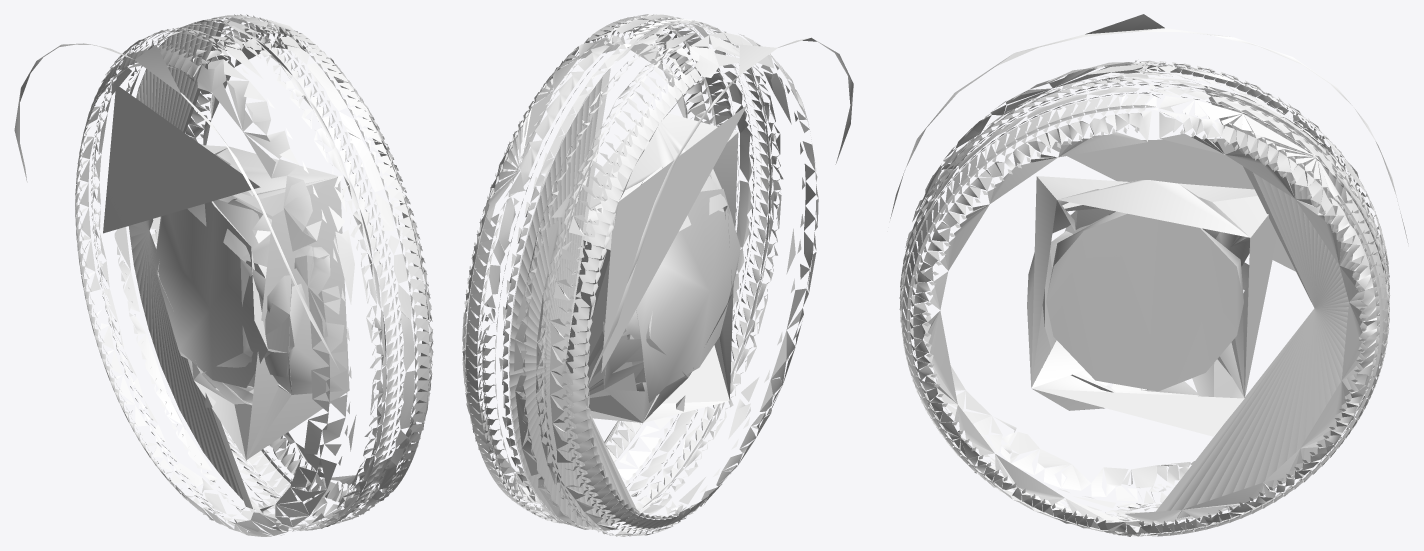
The picture shows the model from 3 angles, left to right: view 1: azimuth 30°, elevation 25°; view 2: azimuth 150°, elevation 25°; view 3: azimuth 270°, elevation 25°; orthographic projection. The views are drawn at different scales.
Size of the model in its own units: 0.2437 by 0.626 by 0.648.
Materials: 1 (1 with a texture image).
